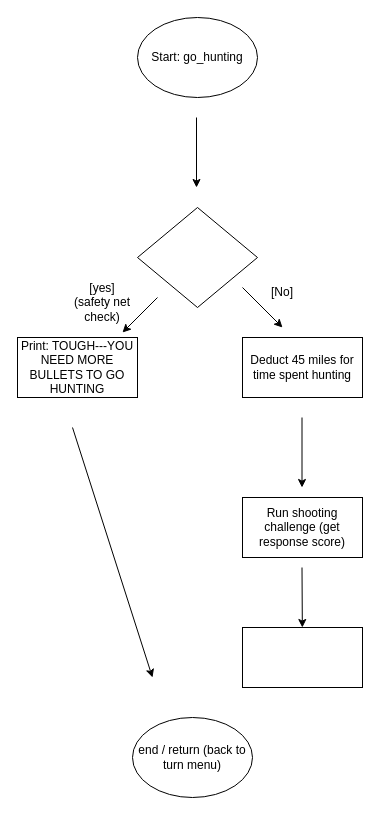
This 383x815 diagram has some shape labels left out. The box of each missing label's shape, as (x1, y1, x2, y2) in pixels:
is bullets < 40?: (136, 206, 258, 308)
Resolve_hunt_outcome (score): (242, 626, 362, 688)
